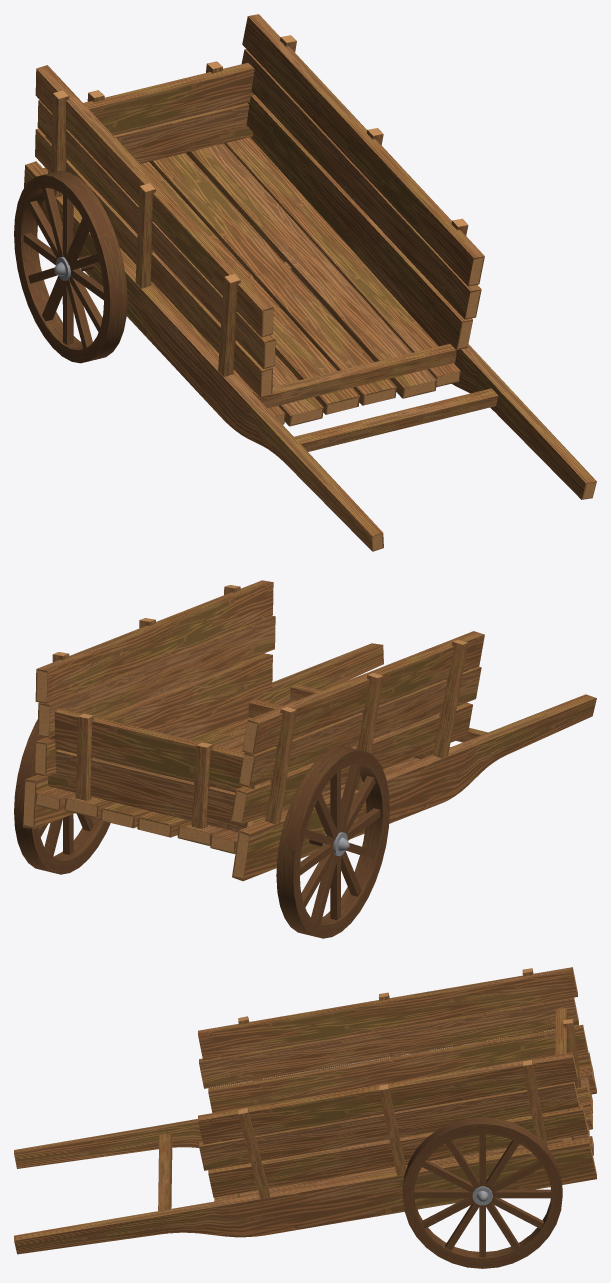
The model's file is Prop_Wagon.glb.
3 renders of one model, top to bottom at view 1: azimuth 30°, elevation 25°; view 2: azimuth 150°, elevation 25°; view 3: azimuth 270°, elevation 25°, orthographic. The views are drawn at different scales.
Visible parts, largest first — view 1: Prop_Wagon; view 2: Prop_Wagon; view 3: Prop_Wagon.
Boxes of the visible parts, <box> form: Prop_Wagon: <box>14,14,596,551</box>; Prop_Wagon: <box>14,580,596,938</box>; Prop_Wagon: <box>14,967,596,1268</box>.
Bounding box in the file's own units: 1.95 × 1.53 × 4.02.
1 material, 1 textured.
